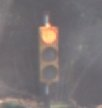Red: (32, 24, 63, 91)
